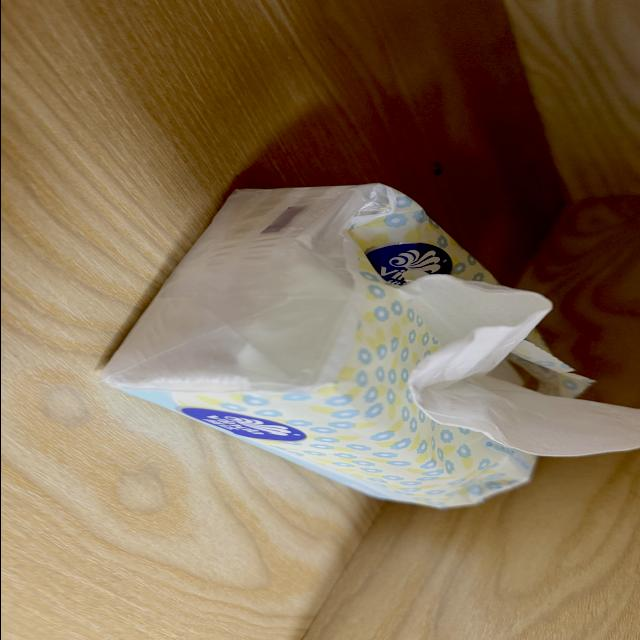tissue: (101, 184, 534, 507), (400, 276, 639, 455)
